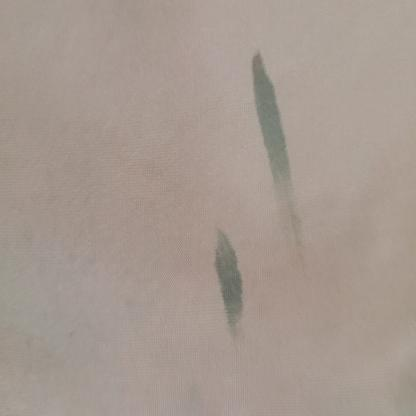spot: (250, 52, 316, 255), (209, 235, 256, 342)
